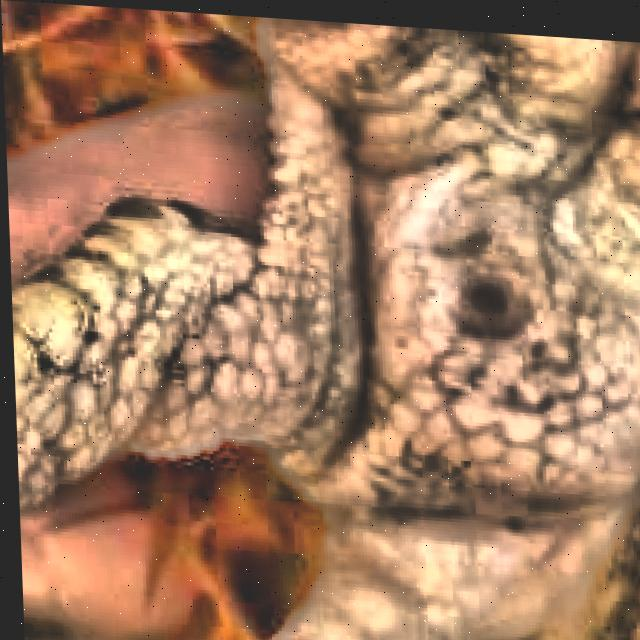Bumble foot: (327, 128, 640, 491)
